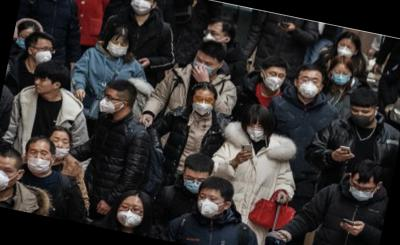mask_weared_incorrect: (47, 135, 72, 161)
with_mask: (193, 191, 227, 221), (114, 199, 146, 230), (25, 146, 55, 177), (189, 92, 216, 119), (294, 74, 321, 101), (181, 171, 210, 196), (190, 56, 219, 81), (347, 180, 378, 203), (262, 68, 287, 94), (348, 105, 375, 129), (201, 27, 227, 49), (97, 91, 119, 116), (244, 121, 267, 144), (105, 38, 130, 59), (34, 42, 54, 67), (330, 67, 351, 88), (335, 41, 356, 59), (15, 32, 32, 52)
without_mask: (33, 75, 53, 95)
